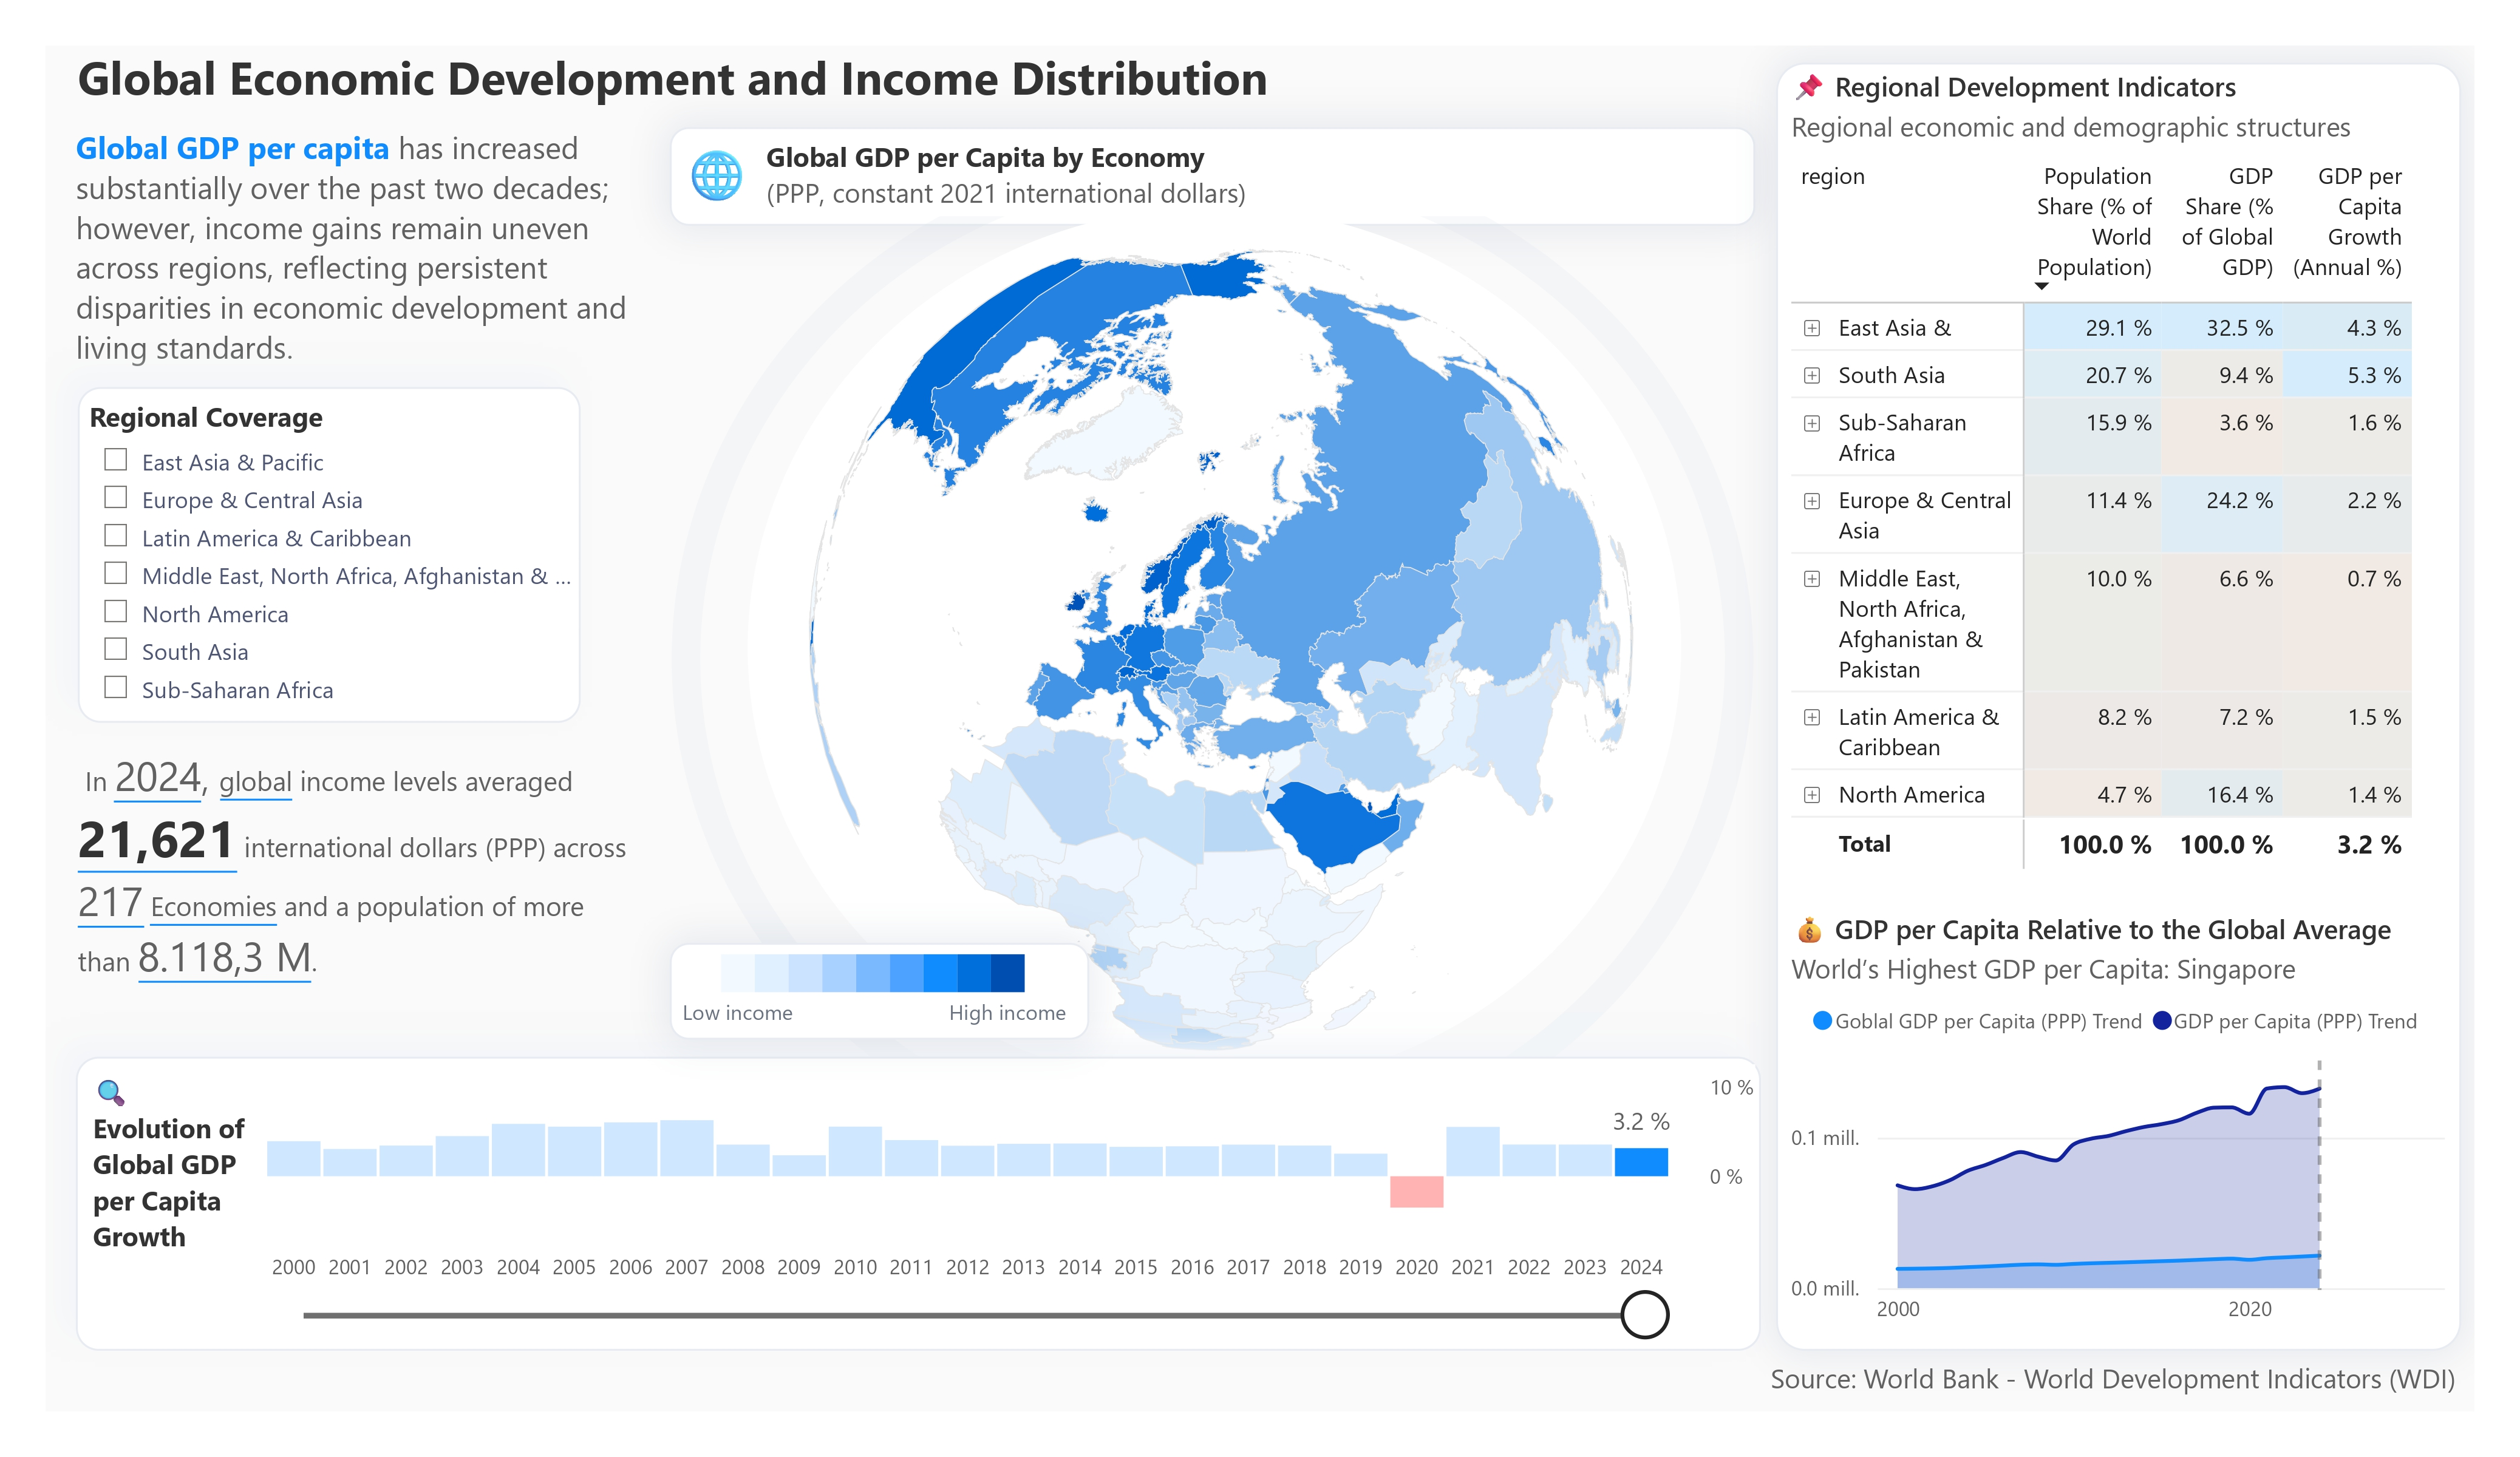

Layout of this report page (visuals, bound fields, positions):
{"tool":"powerbi","page":{"name":"World Development Indicators","canvas":[1280,720],"ordinal":0},"visuals":[{"type":"shape","box":[329.4,43,571.5,51.6],"z":0},{"type":"shape","box":[369.8,85,492.5,464.5],"z":0,"group":"g1"},{"type":"shape","box":[922.5,43,349.5,484.1],"z":1000},{"type":"shape","box":[330.3,53,570,540.5],"z":1000,"group":"g1"},{"type":"group","id":"g1","title":"Map","box":[330.3,53,570,540.5],"z":2000},{"type":"shapeMap","fields":{"Category":["country.country_code"]},"box":[368.7,79.3,502.4,478.4],"z":4000,"group":"g1"},{"type":"shape","box":[15.8,532.8,1254.8,154.7],"z":4000},{"type":"textbox","box":[15.8,43,296.5,137.5],"z":5000},{"type":"textbox","box":[17.2,0,720.5,38],"z":6000},{"type":"textbox","box":[17.2,369.6,295.1,154.7],"z":7000},{"type":"slicer","title":"Regional Coverage","fields":{"Values":["country.region"]},"box":[17.2,180.5,265,176.2],"z":8000},{"type":"textbox","box":[875.1,692.6,395.3,28.7],"z":9000},{"type":"textbox","box":[57.3,537.1,73.1,146.1],"z":10000,"group":"g4"},{"type":"group","id":"g2","title":"Grupo 1","box":[130.3,537.1,1140.2,146.1],"z":10000},{"type":"deneb7E15AEF80B9E4D4F8E12924291ECE89A","fields":{"dataset":["Measure.Legend Placeholder"]},"box":[329.4,472.7,220.6,51.6],"z":11000},{"type":"group","id":"g3","title":"Grupo 2","box":[335.6,47.7,388.8,43],"z":12000},{"type":"textbox","box":[379.2,47.7,345.2,43],"z":13000,"group":"g3"},{"type":"textbox","box":[966.2,48.8,303.8,39],"z":13000,"group":"g5"},{"type":"group","id":"g4","title":"Grupo 4","box":[57.3,537.1,73.1,146.1],"z":13000},{"type":"slicer","fields":{"Values":["Years.Years"]},"box":[130.9,621.2,1093.6,62],"z":13000,"group":"g2"},{"type":"group","id":"g5","title":"Grupo 2","box":[923.9,47.3,346.6,41.5],"z":14000},{"type":"textbox","box":[923.9,47.3,37.4,41],"z":15000,"group":"g5"},{"type":"textbox","box":[335.6,48.7,34,41],"z":15000,"group":"g3"},{"type":"pivotTable","title":"Regional economic and demographic structures","fields":{"Rows":["country.region","country.country_name"],"Values":["Measure.Population Share","Measure.Income Share","Measure.Poverty Headcount Ratio"]},"box":[924.6,94.5,346.5,415.8],"z":15000},{"type":"textbox","box":[20.1,537.1,36.9,41],"z":15000,"group":"g6"},{"type":"group","id":"g6","title":"Grupo 2","box":[20.1,537.1,37.2,41.5],"z":16000},{"type":"columnChart","title":"Global access to electricity","fields":{"Category":["Extra year.Extra year"],"Y":["indicators.GDP per Capita 02"]},"box":[130.3,537.1,1140.2,118.6],"z":16500,"group":"g2"}]}

Visuals, with their boxes on the page's 1280x720 design canvas (x1, y1, x2, y2). These are canvas units, not pixel positions in the 2520x1457 screenshot, which may show the page scaled, cropped or inside an application window:
shape: x1=329 y1=43 x2=901 y2=95
shape: x1=370 y1=85 x2=862 y2=550
shape: x1=922 y1=43 x2=1272 y2=527
shape: x1=330 y1=53 x2=900 y2=594
"Map" group: x1=330 y1=53 x2=900 y2=594
shapeMap - country.country_code: x1=369 y1=79 x2=871 y2=558
shape: x1=16 y1=533 x2=1271 y2=688
textbox: x1=16 y1=43 x2=312 y2=180
textbox: x1=17 y1=0 x2=738 y2=38
textbox: x1=17 y1=370 x2=312 y2=524
"Regional Coverage" slicer: x1=17 y1=180 x2=282 y2=357
textbox: x1=875 y1=693 x2=1270 y2=721
textbox: x1=57 y1=537 x2=130 y2=683
"Grupo 1" group: x1=130 y1=537 x2=1270 y2=683
deneb7E15AEF80B9E4D4F8E12924291ECE89A - Measure.Legend Placeholder: x1=329 y1=473 x2=550 y2=524
"Grupo 2" group: x1=336 y1=48 x2=724 y2=91
textbox: x1=379 y1=48 x2=724 y2=91
textbox: x1=966 y1=49 x2=1270 y2=88
"Grupo 4" group: x1=57 y1=537 x2=130 y2=683
slicer - Years.Years: x1=131 y1=621 x2=1224 y2=683
"Grupo 2" group: x1=924 y1=47 x2=1270 y2=89
textbox: x1=924 y1=47 x2=961 y2=88
textbox: x1=336 y1=49 x2=370 y2=90
"Regional economic and demographic structures" pivotTable: x1=925 y1=94 x2=1271 y2=510
textbox: x1=20 y1=537 x2=57 y2=578
"Grupo 2" group: x1=20 y1=537 x2=57 y2=579
"Global access to electricity" columnChart: x1=130 y1=537 x2=1270 y2=656
